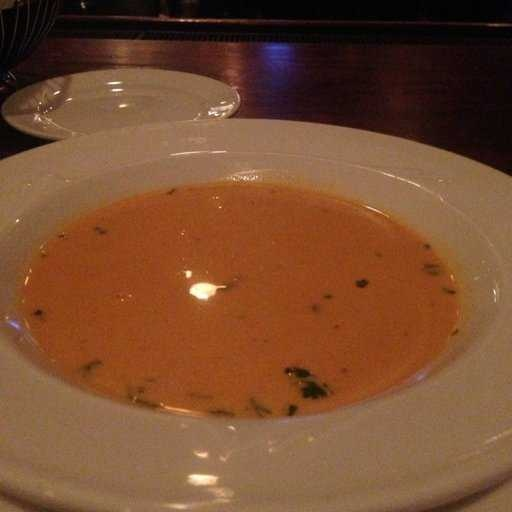soup: (1, 160, 458, 439)
